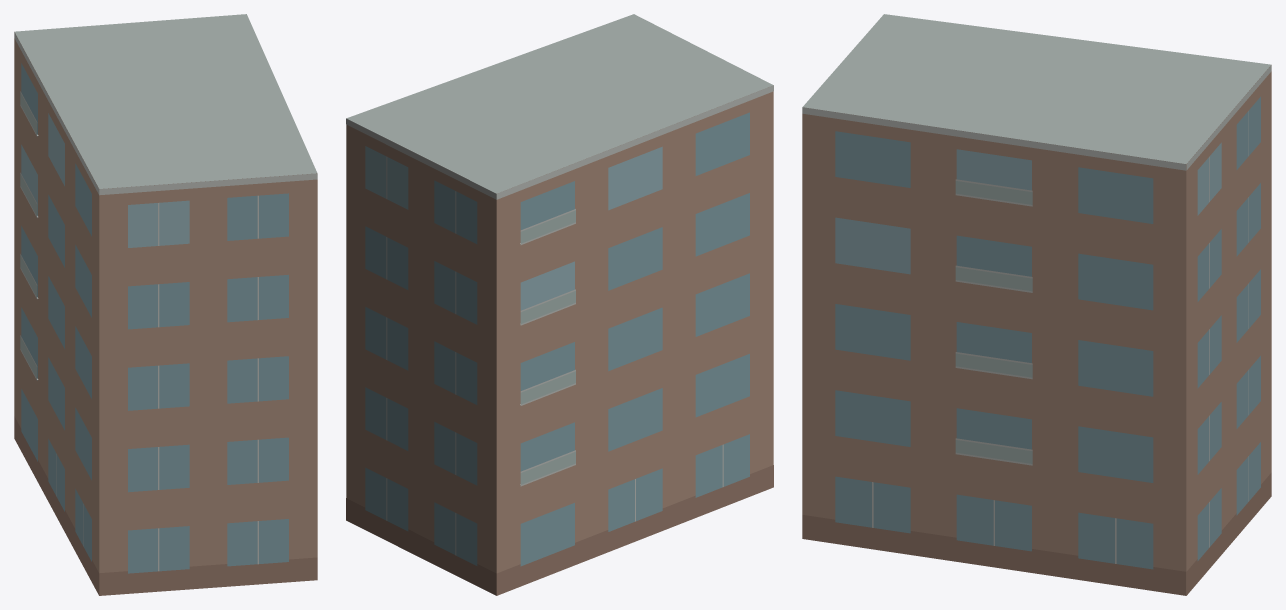
Rendered from survey-upis-32894365.glb.
3 renders of one model, left to right at view 1: azimuth 30°, elevation 25°; view 2: azimuth 150°, elevation 25°; view 3: azimuth 270°, elevation 25°, orthographic. The views are drawn at different scales.
Visible parts, largest first — view 1: survey-upis-32894365.tmp; view 2: survey-upis-32894365.tmp; view 3: survey-upis-32894365.tmp.
Part boxes in pixels (x1=…): survey-upis-32894365.tmp: x1=14, y1=14, x2=317, y2=595; survey-upis-32894365.tmp: x1=346, y1=14, x2=773, y2=595; survey-upis-32894365.tmp: x1=802, y1=14, x2=1271, y2=595.
Size of the model in its own units: 12.02 by 16.1 by 15.87.
